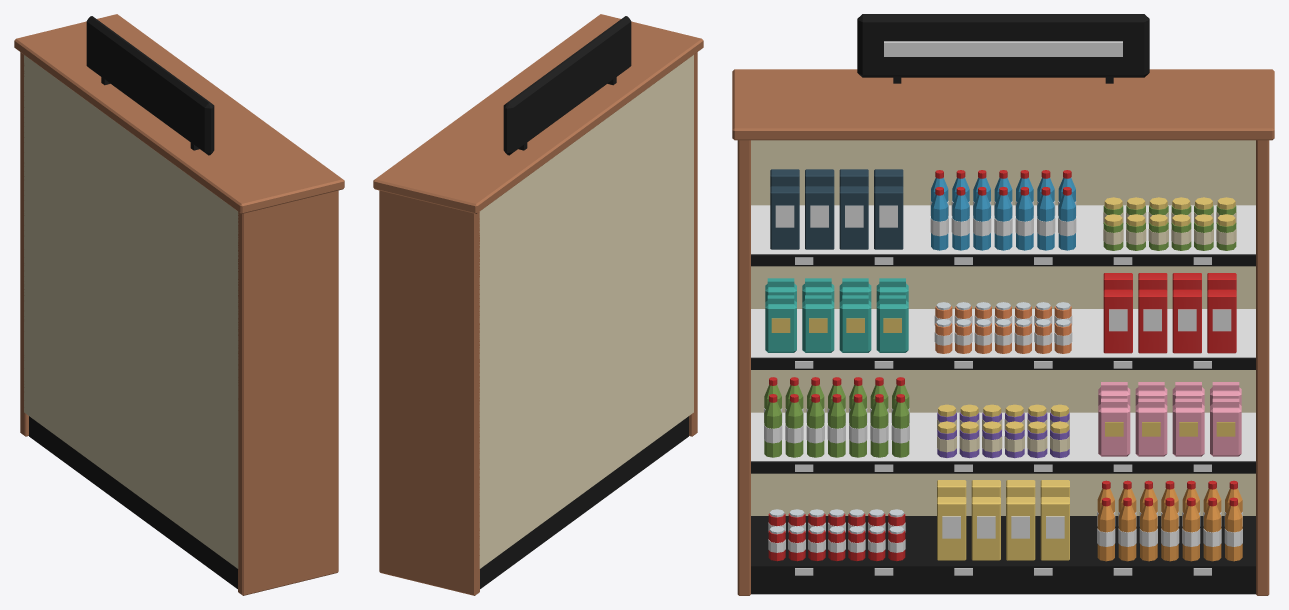
The model's file is SM_Build_SM_Store_Shelf_Wall_01.fbx.
3 views of the same model, side by side, from view 1: azimuth 30°, elevation 25°; view 2: azimuth 150°, elevation 25°; view 3: azimuth 270°, elevation 25° (orthographic). The views are drawn at different scales.
Visible parts, largest first — view 1: SM_Store_Shelf_Wall_01; view 2: SM_Store_Shelf_Wall_01; view 3: SM_Store_Shelf_Wall_01, SM_Store_Shelf_Wall_01_Products.
Boxes of the visible parts, left/top/right/bottom form: SM_Store_Shelf_Wall_01: left=14, top=14, right=344, bottom=595; SM_Store_Shelf_Wall_01: left=373, top=14, right=703, bottom=595; SM_Store_Shelf_Wall_01: left=732, top=14, right=1274, bottom=595; SM_Store_Shelf_Wall_01_Products: left=764, top=169, right=1242, bottom=561.
Bounding box in the file's own units: 0.54 × 2.23 × 2.04.
